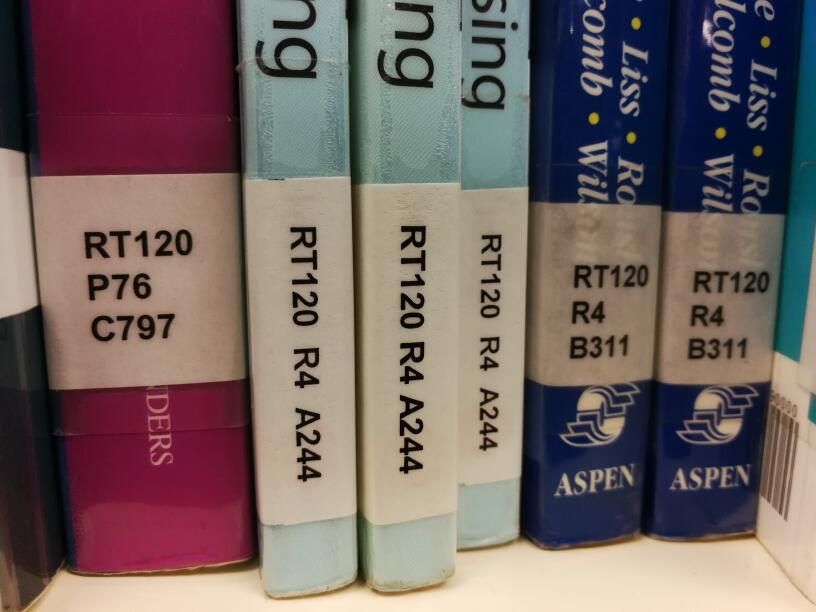booklabel: (77, 225, 200, 343), (283, 220, 326, 483), (562, 257, 653, 363), (682, 264, 774, 364), (393, 220, 428, 476), (473, 229, 507, 454)
